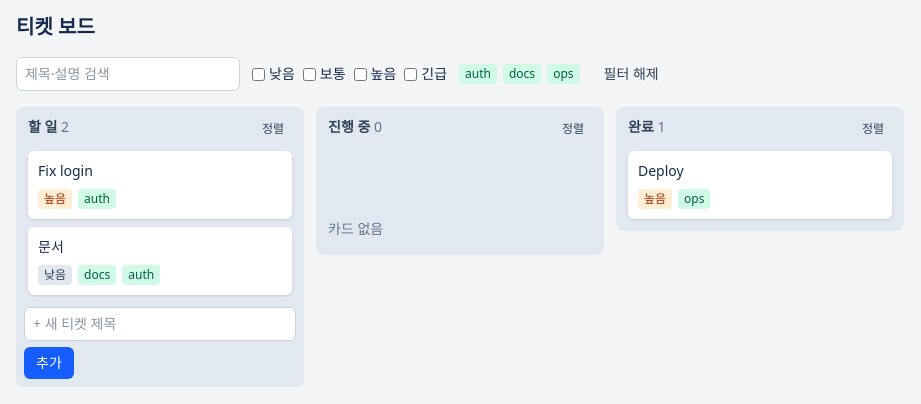
Scenario: 필터 바 (UI-C09) › TC-UI-019: 우선순위를 고르면 priority 쿼리로 조회하고 여러 개면 반복해 보낸다
expect the text "Fix login" is shown: met, box [38,161,93,181]
Click the checkbox labelled "높음" at [360, 74], box [354,68,366,80]
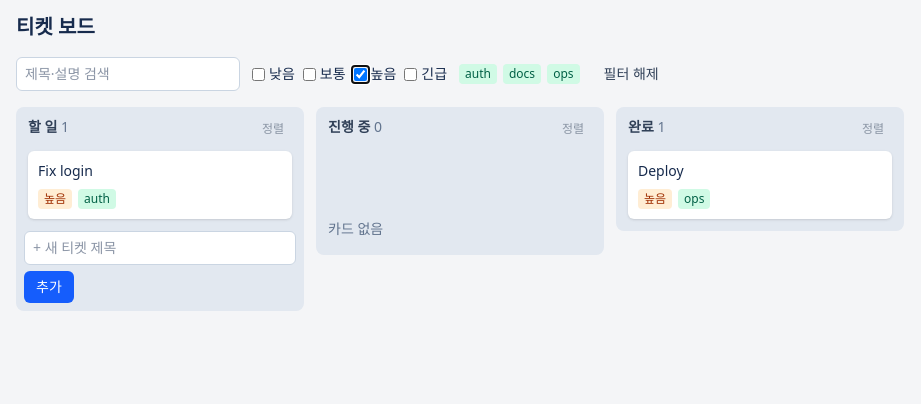
expect the button "문서" is gone: met
Click the checkbox labelled "낮음" at [258, 74], box [252,68,265,80]
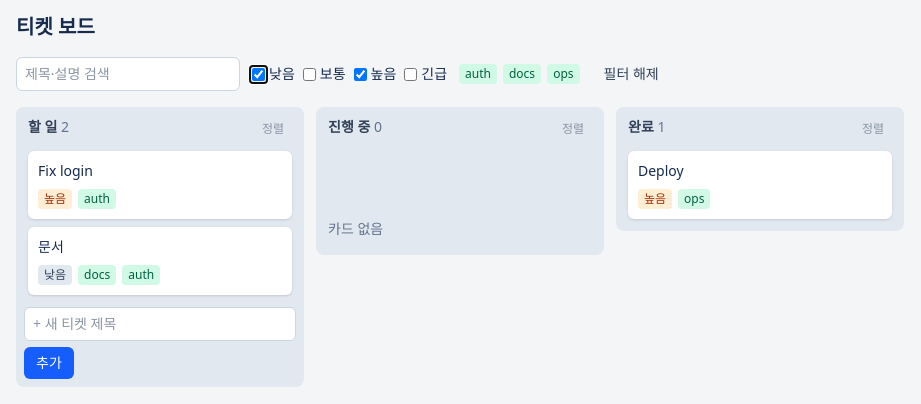
expect the text "문서" is shown: met, box [38,237,64,257]
